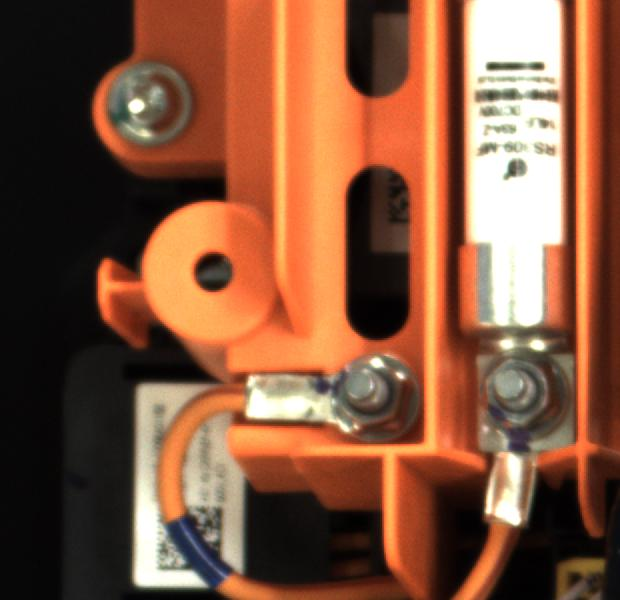screw_m: (96, 56, 201, 160)
screw_s: (470, 343, 575, 444), (321, 347, 428, 443)
